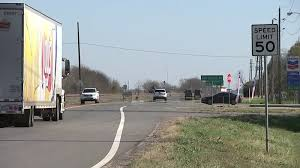speedLimit50: (250, 20, 281, 59)
